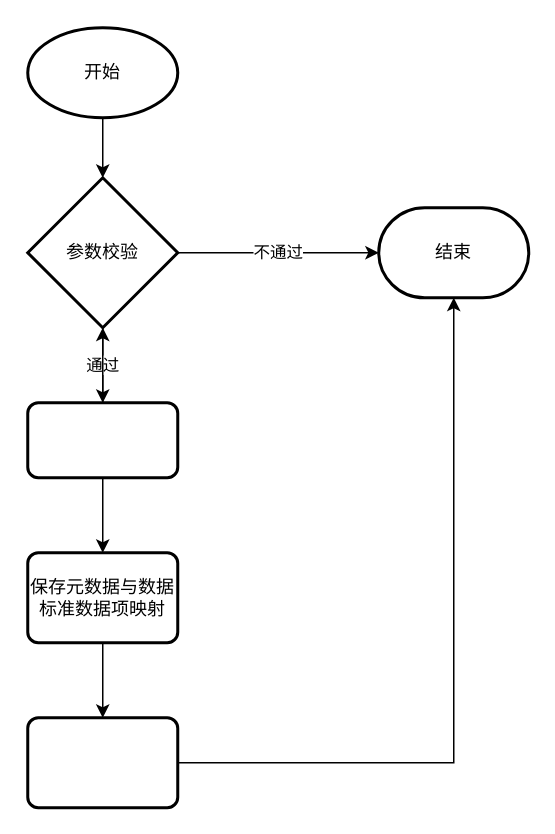
The diagram is 555 pixels wide and 834 high, and some of its shapes have lost their labels. The shapes that lost their labels are listed below. From the top down, each one's centre as x and y in pixels, then its label:
At [102,439]: "保存基本信息".
At [102,762]: "新建任务".
